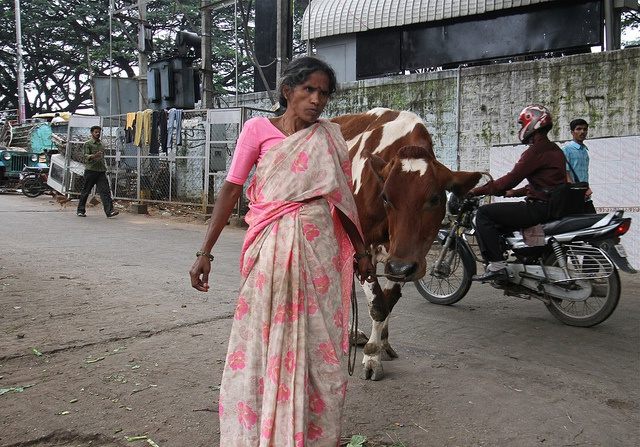non-vehicle: (414, 188, 639, 330), (20, 163, 57, 198)
